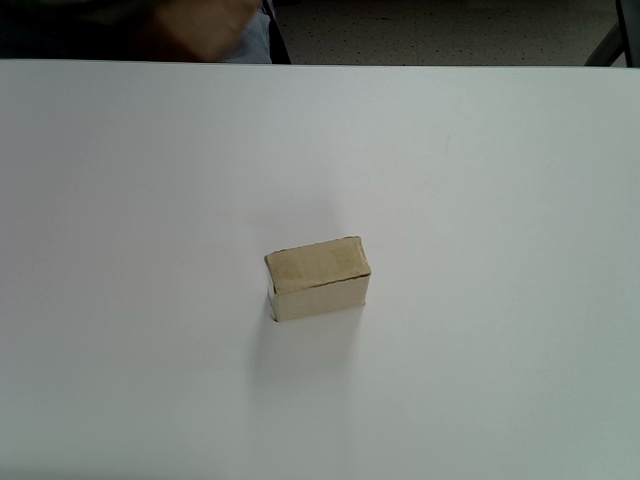normal: (263, 235, 373, 324)
